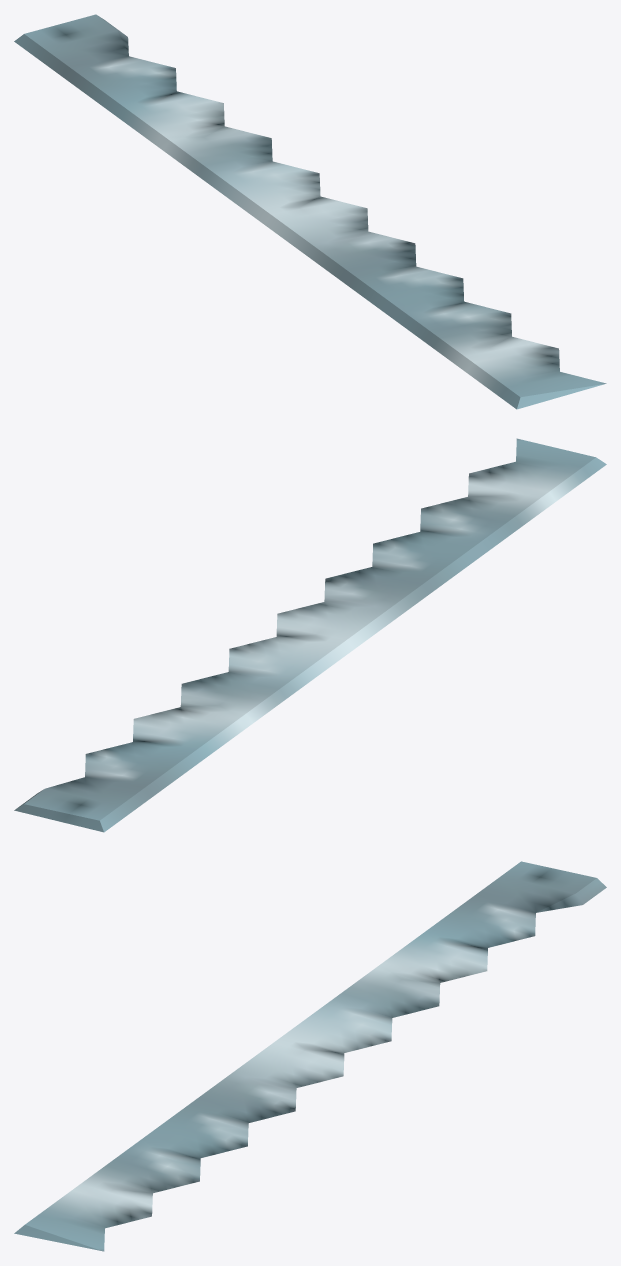
Rendered from saw_blade.FBX.
3 views of the same model, one above another, from view 1: azimuth 30°, elevation 25°; view 2: azimuth 150°, elevation 25°; view 3: azimuth 330°, elevation 25° (orthographic).
Parts seen in each view (by area): view 1: saw_blade; view 2: saw_blade; view 3: saw_blade.
Boxes of the visible parts, left/top/right/bottom form: saw_blade: left=14, top=14, right=606, bottom=409; saw_blade: left=14, top=438, right=606, bottom=832; saw_blade: left=14, top=861, right=606, bottom=1251.
Bounding box in the file's own units: 40 × 386 × 3.37.
